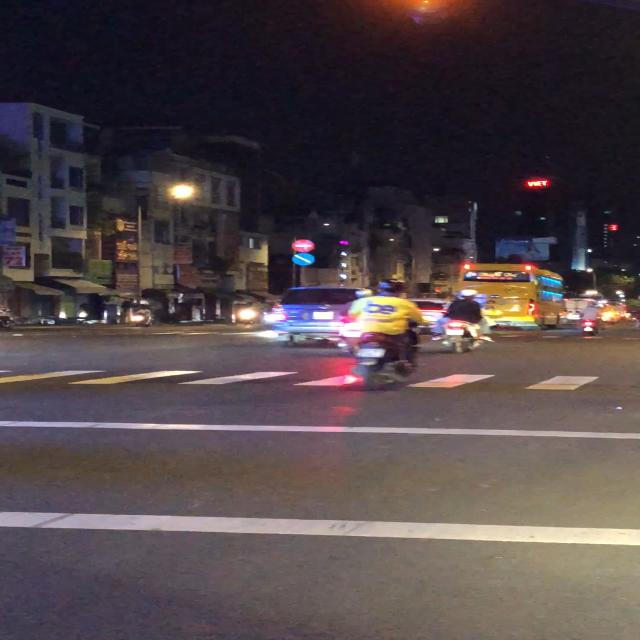Bien bao cam di nguoc chieu: (288, 240, 316, 252)
Bien bao huong phai di vong chuong ngai vat: (291, 252, 317, 266)
